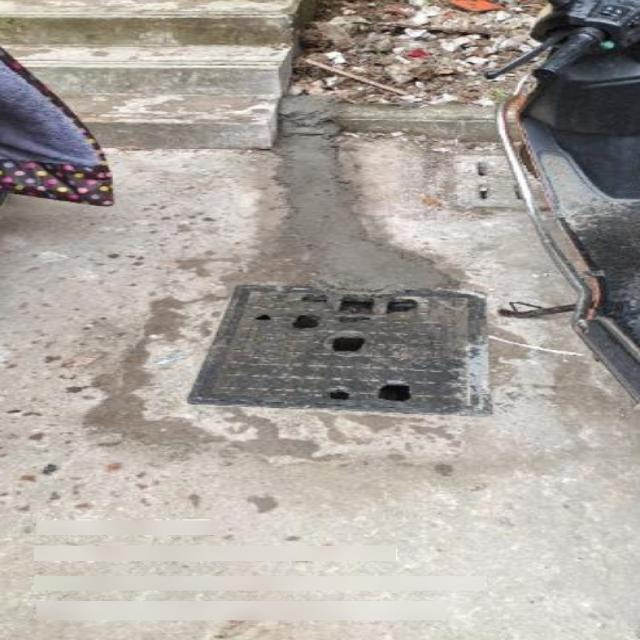Faulty: (165, 276, 521, 430)
